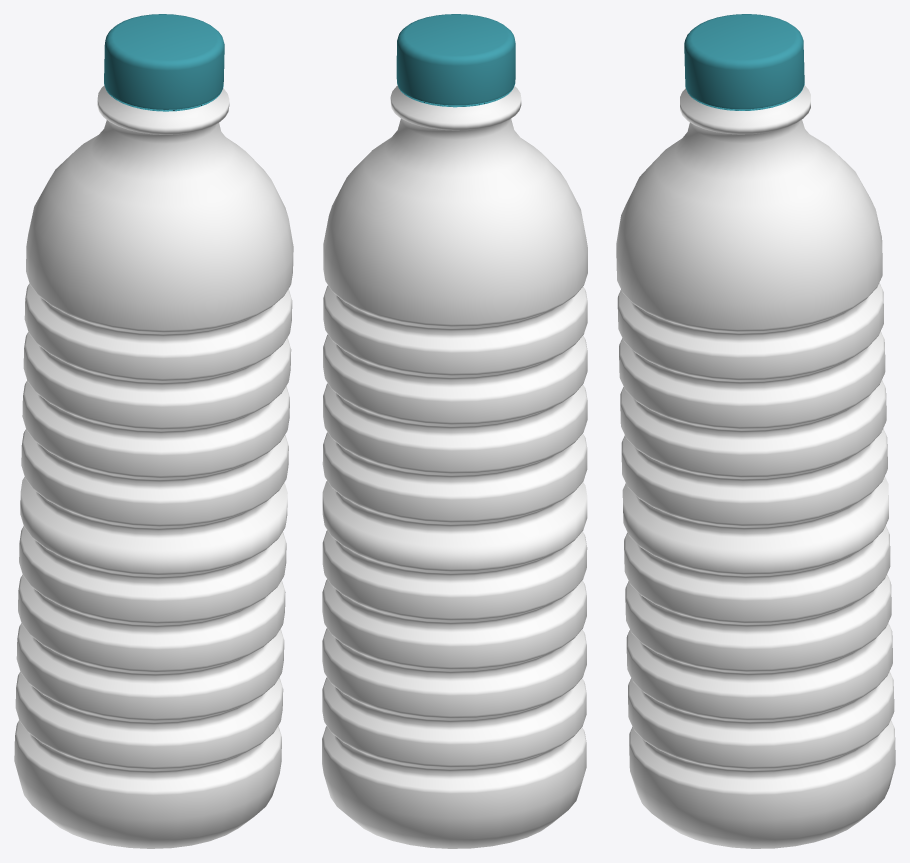
File: agua.gltf
3 renders of one model, left to right at view 1: azimuth 30°, elevation 25°; view 2: azimuth 150°, elevation 25°; view 3: azimuth 270°, elevation 25°, orthographic.
Visible parts, largest first — view 1: Mesh_0.003, Mesh_1.001; view 2: Mesh_0.003, Mesh_1.001; view 3: Mesh_0.003, Mesh_1.001.
Boxes of the visible parts, x1,y1,x2,y2 form: Mesh_0.003: [14, 85, 293, 848]; Mesh_1.001: [104, 14, 224, 111]; Mesh_0.003: [322, 86, 587, 848]; Mesh_1.001: [396, 14, 515, 107]; Mesh_0.003: [616, 85, 895, 848]; Mesh_1.001: [684, 14, 804, 110].
Size of the model in its own units: 9.18 by 29 by 9.43.
